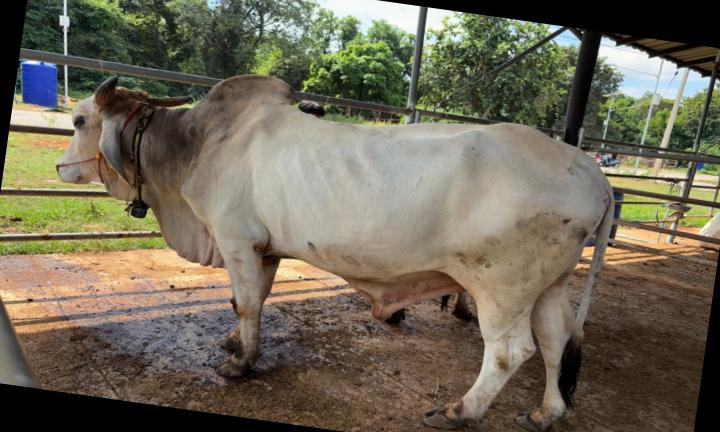Brahman: (58, 75, 614, 431)
